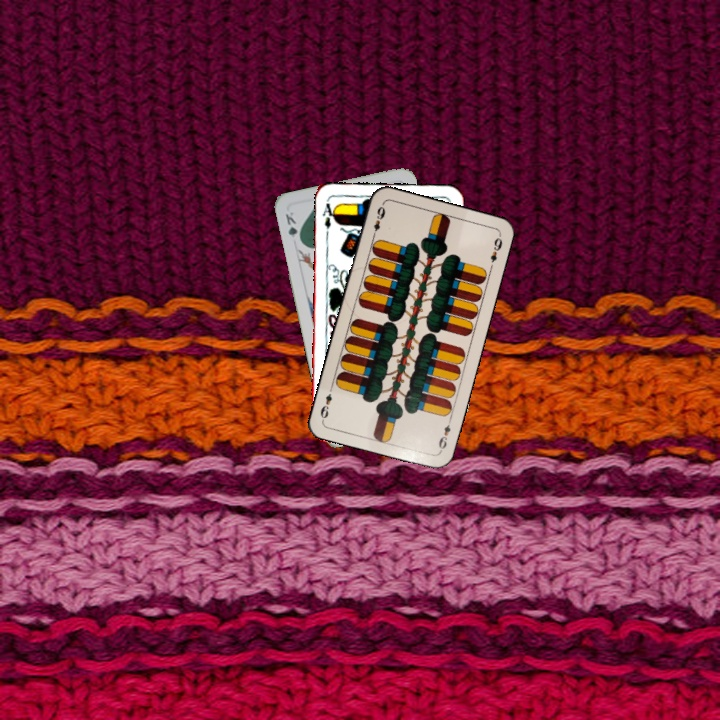E9: (434, 414, 454, 454), (368, 202, 388, 240)
EA: (319, 198, 338, 232)
GK: (281, 208, 304, 246)
